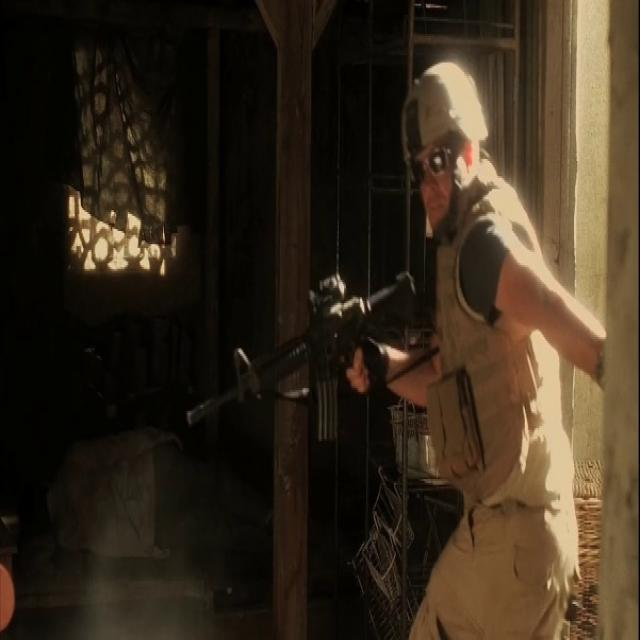rifle: (183, 264, 419, 460)
